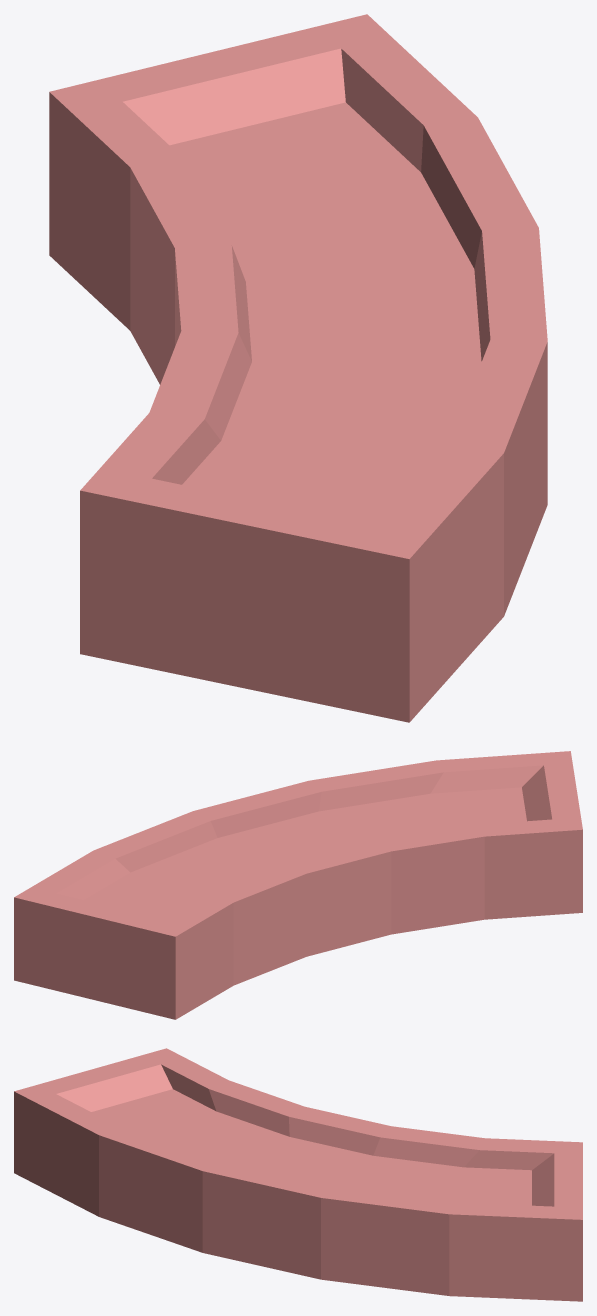
Rendered from Key no 6.glb.
The picture shows the model from 3 angles, top to bottom: view 1: azimuth 30°, elevation 25°; view 2: azimuth 150°, elevation 25°; view 3: azimuth 270°, elevation 25°; orthographic projection. The views are drawn at different scales.
Parts seen in each view (by area): view 1: Key no 6; view 2: Key no 6; view 3: Key no 6.
Boxes of the visible parts, <box> form: Key no 6: <box>49,14,547,722</box>; Key no 6: <box>14,751,582,1019</box>; Key no 6: <box>14,1048,582,1301</box>.
Size of the model in its own units: 0.2387 by 0.053 by 0.3344.
